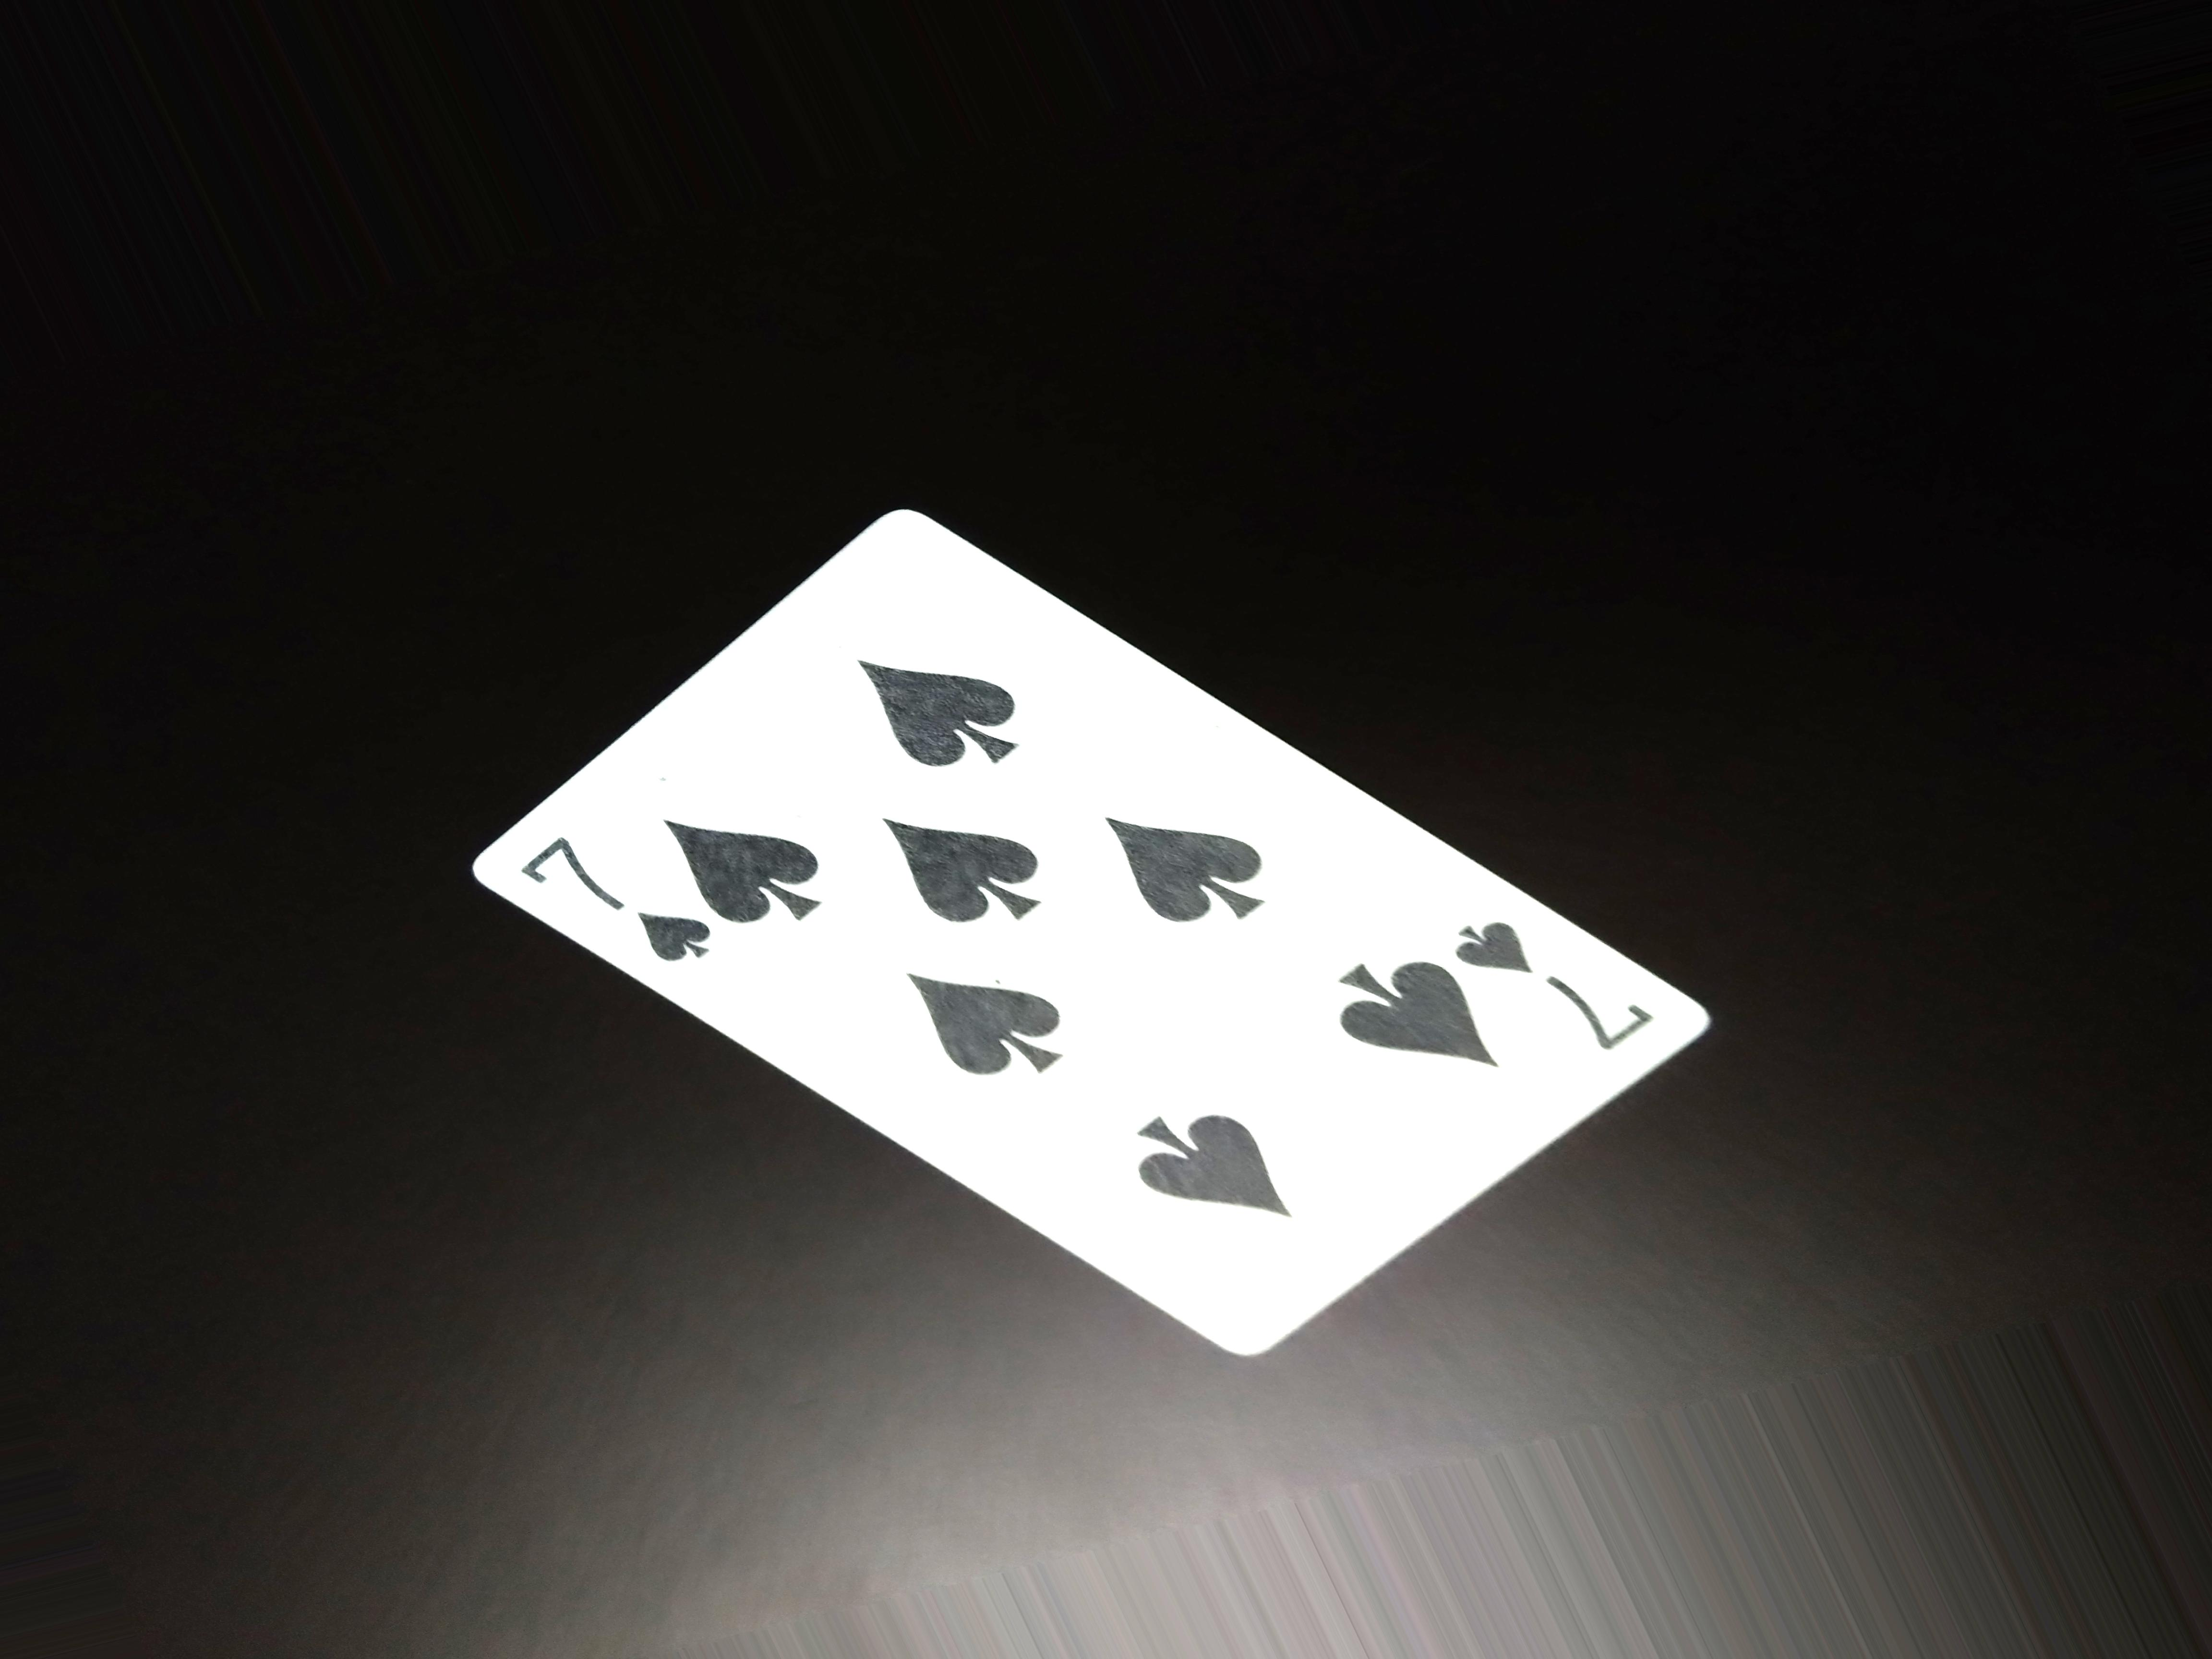7S: (1454, 896, 1677, 1077)
